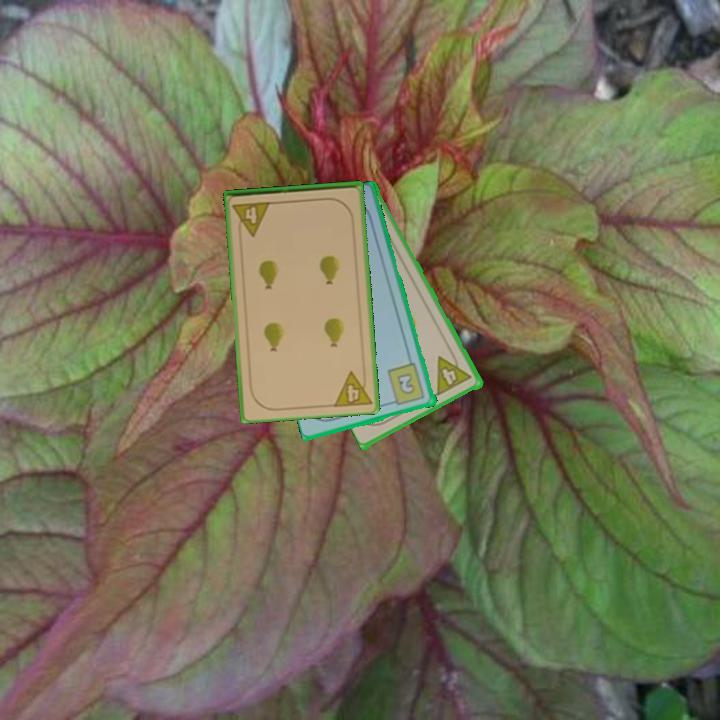2b: (384, 360, 428, 408)
4p: (433, 347, 475, 398), (330, 365, 374, 409), (229, 198, 274, 239)
